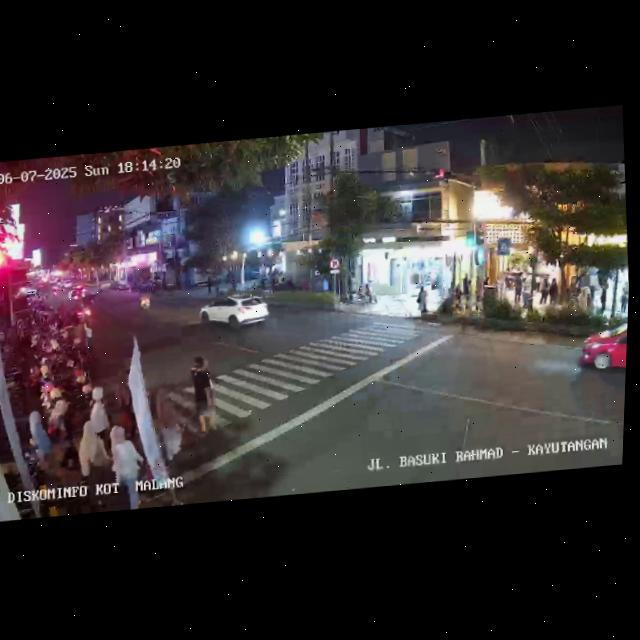car: (575, 320, 628, 386), (197, 290, 272, 335), (11, 283, 40, 306)
motorcycle: (135, 289, 153, 313)
person: (144, 381, 186, 483), (106, 420, 150, 506), (75, 416, 115, 507), (184, 353, 216, 429), (87, 401, 114, 451), (81, 322, 94, 359), (414, 284, 428, 317), (520, 277, 534, 310), (508, 273, 522, 306), (537, 275, 550, 308), (547, 274, 560, 307), (619, 281, 629, 313)
